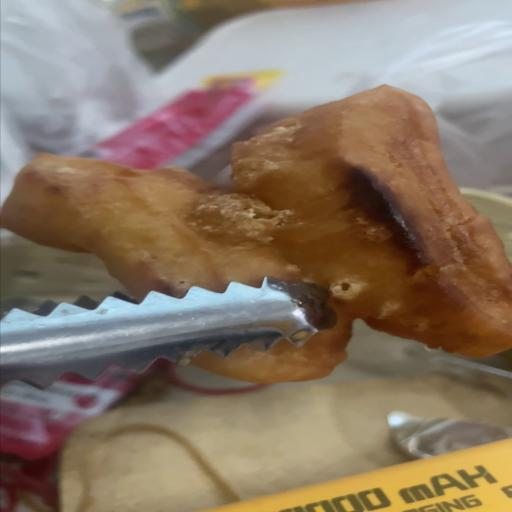street_burnt_defect: (0, 85, 512, 383)
